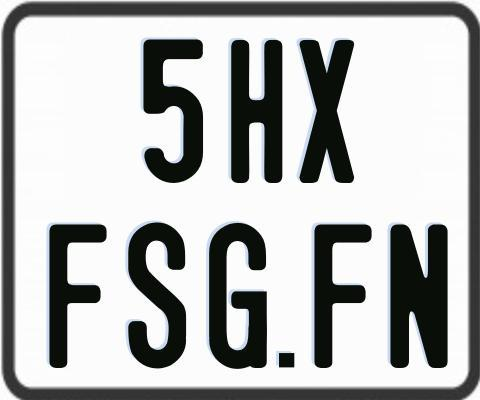5: (143, 38, 209, 185)
F: (313, 221, 377, 367), (47, 222, 107, 371)
G: (209, 223, 273, 374)
H: (230, 37, 287, 182)
N: (387, 222, 445, 369)
S: (127, 222, 189, 373)
X: (298, 39, 358, 183)
